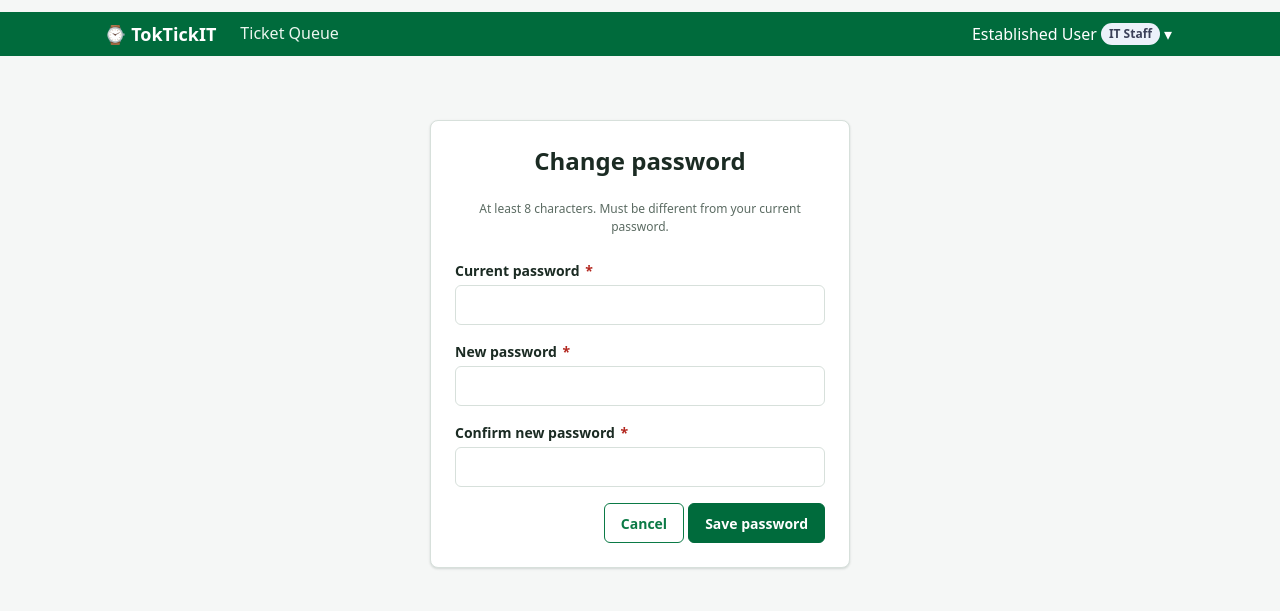
Test: voluntary mode (mustChangePassword: false) › 403 WRONG_PASSWORD surfaces as a Current password field error
Type "wrongpassword" into the password field labelled "Current password *" at x=640, y=305, box [455,285,825,325]
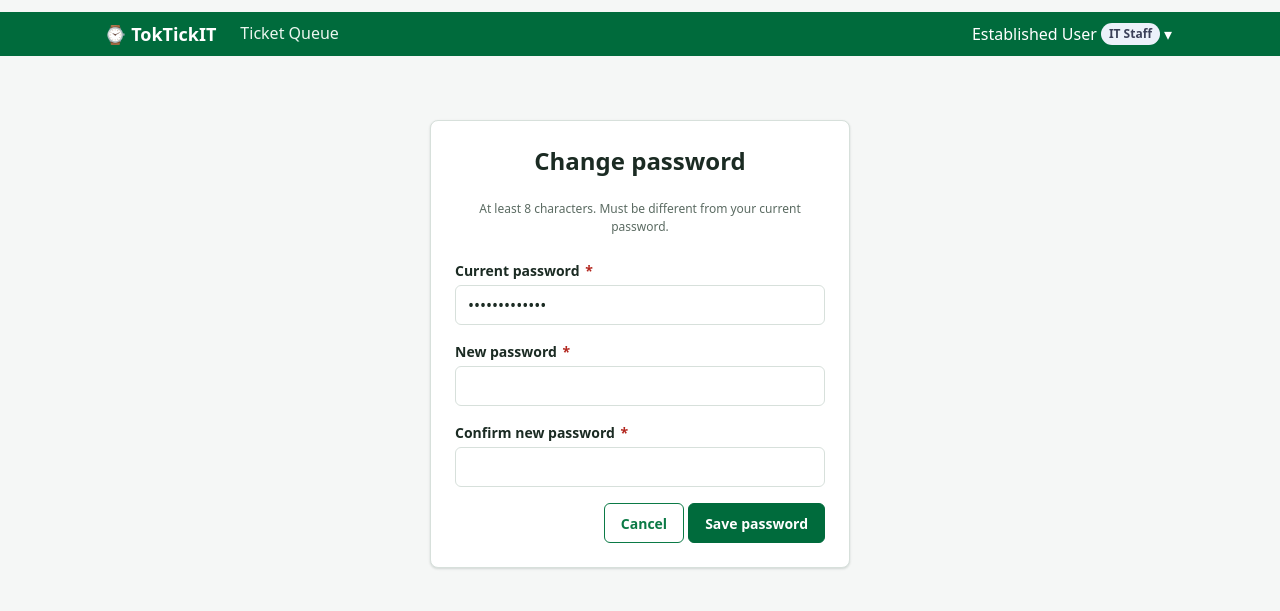
Type "BrandNewPassword1" into the password field labelled "New password *" at x=640, y=386, box [455,366,825,406]
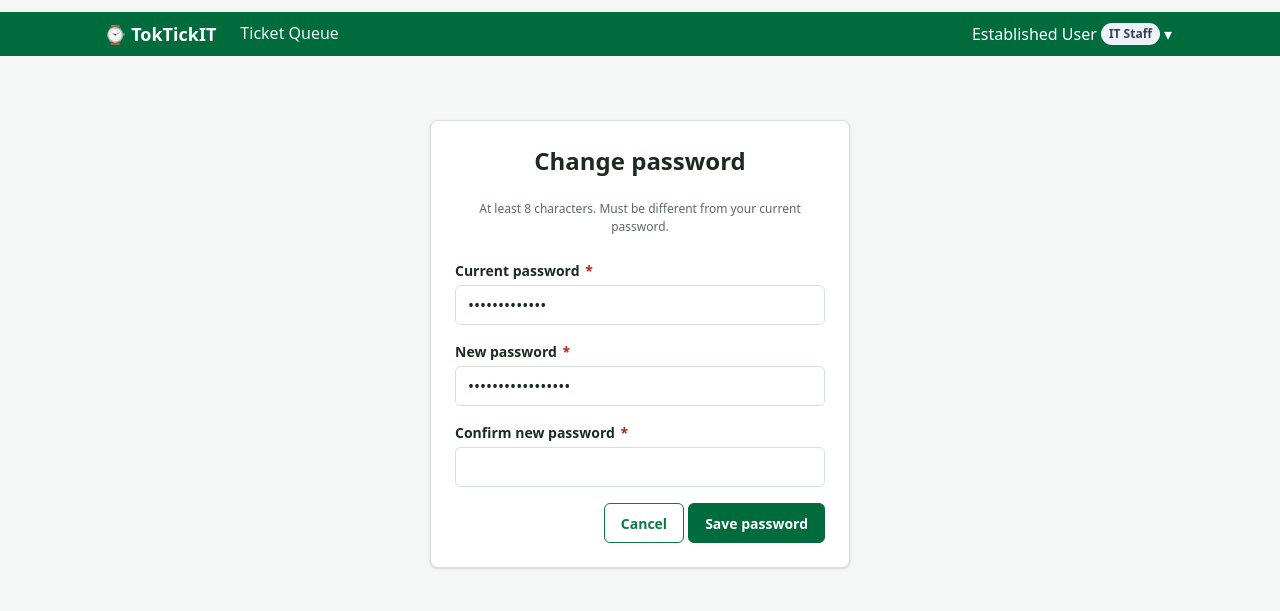
Type "BrandNewPassword1" into the password field labelled "Confirm new password *" at x=640, y=467, box [455,447,825,487]
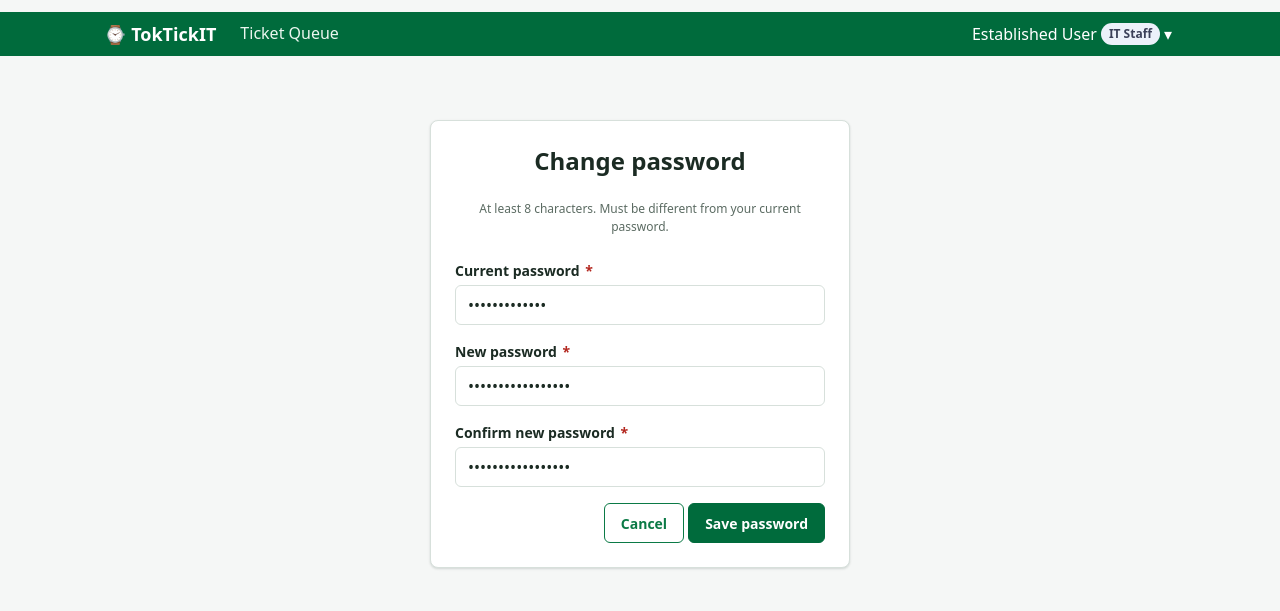
Click the button "Save password" at x=757, y=523, box [688,503,825,543]
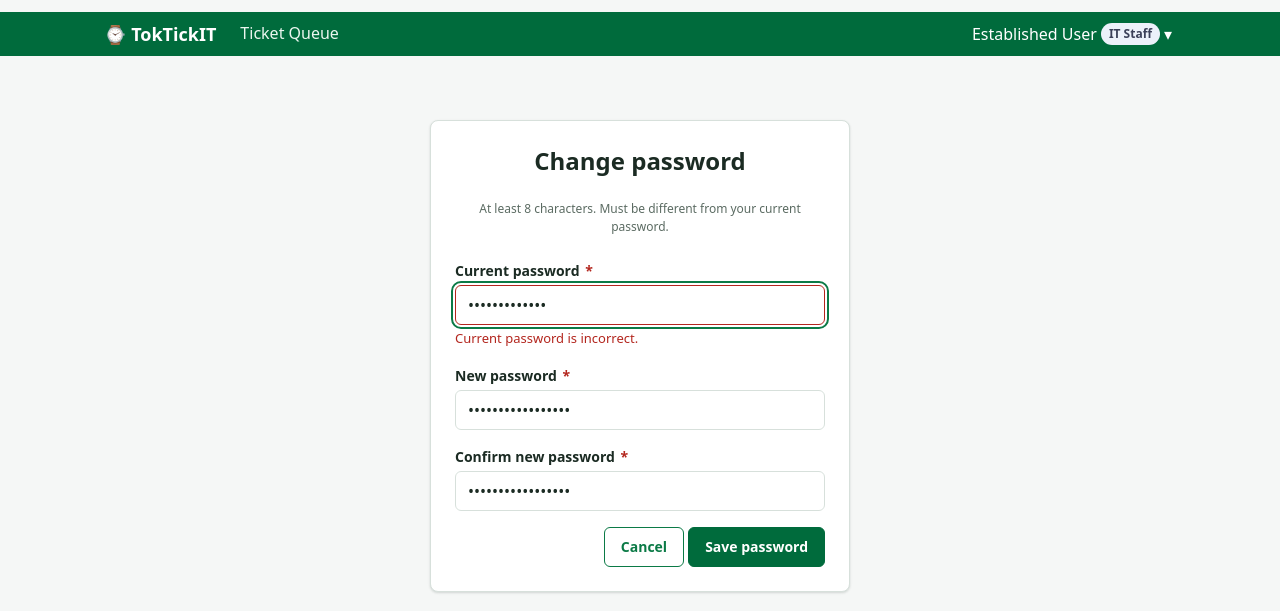
Now the text "Current password is incorrect." is shown, box [455,329,638,347]
